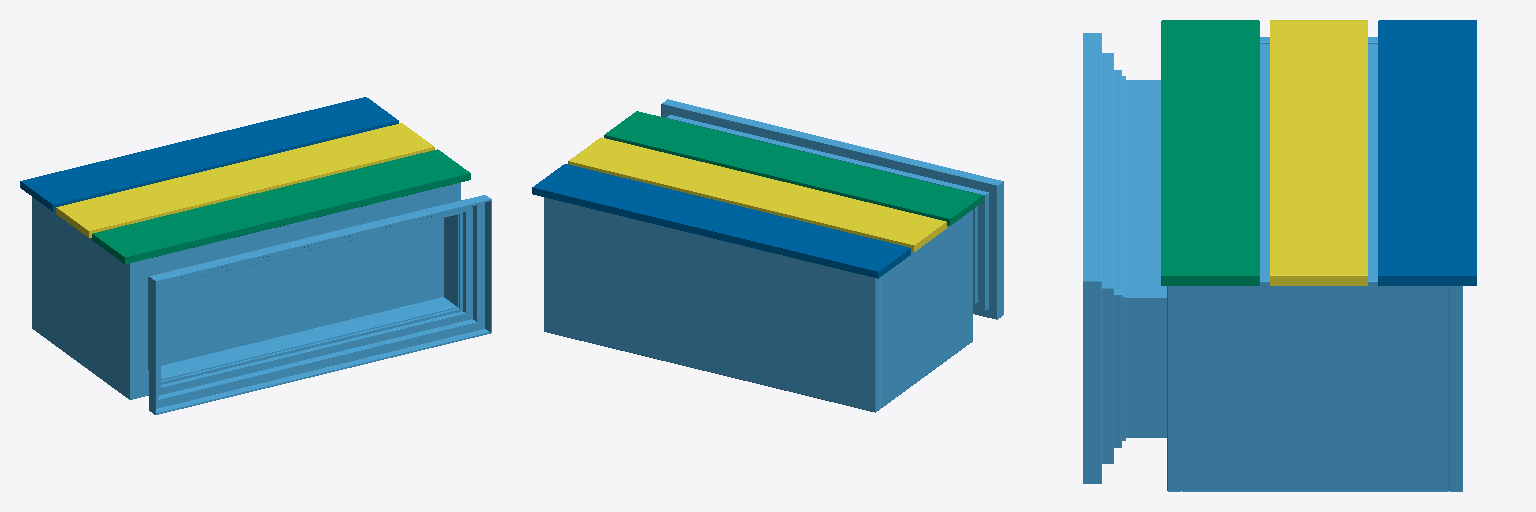
The robot description file, URDF, robot "480":
<robot name="480">


	<link name="0:virtual">
		<visual>
			<origin xyz="0.0 0.0 0.0" rpy="0 0 0"/>
			<geometry>
				<cylinder length="0" radius="0"/>
			</geometry>
		</visual>
	</link>


	<link name="1:static">
		<visual>
			<origin xyz="-0.0 -0.0 -0.0" rpy="0 0 0"/>
			<geometry>
				<mesh filename="../raw_data/480/part_meshes/1.dae" />
			</geometry>
		</visual>
	</link>


	<link name="2:drawer 1">
		<visual>
			<origin xyz="-0.0 -0.2714195027947426 -0.015427500009536743" rpy="0 0 0"/>
			<geometry>
				<mesh filename="../raw_data/480/part_meshes/2.dae" />
			</geometry>
		</visual>
	</link>


	<link name="3:drawer 2">
		<visual>
			<origin xyz="-0.0 -0.5026500076055527 -0.015427500009536743" rpy="0 0 0"/>
			<geometry>
				<mesh filename="../raw_data/480/part_meshes/3.dae" />
			</geometry>
		</visual>
	</link>


	<link name="4:drawer 3">
		<visual>
			<origin xyz="-0.0 -0.7338805198669434 -0.015427500009536743" rpy="0 0 0"/>
			<geometry>
				<mesh filename="../raw_data/480/part_meshes/4.dae" />
			</geometry>
		</visual>
	</link>


	<joint name="0:virtual::1:static" type="fixed">
		<parent link="0:virtual"/>
		<child link="1:static"/>
		<origin xyz="0.0 0.0 0.0" rpy="0 0 0"/>
	</joint>


	<joint name="0:virtual::2:drawer 1_translation" type="prismatic">
		<parent link="0:virtual"/>
		<child link="2:drawer 1"/>
		<origin xyz="0.0 0.2714195027947426 0.015427500009536743" rpy="0 0 0"/>
		<limit lower="0.0" upper="0.440431501686573" effort="10" velocity="3"/>
		<axis xyz="0.0 0.0 1.0"/>
	</joint>


	<joint name="0:virtual::3:drawer 2_translation" type="prismatic">
		<parent link="0:virtual"/>
		<child link="3:drawer 2"/>
		<origin xyz="0.0 0.5026500076055527 0.015427500009536743" rpy="0 0 0"/>
		<limit lower="0.0" upper="0.440431501686573" effort="10" velocity="3"/>
		<axis xyz="0.0 0.0 1.0"/>
	</joint>


	<joint name="0:virtual::4:drawer 3_translation" type="prismatic">
		<parent link="0:virtual"/>
		<child link="4:drawer 3"/>
		<origin xyz="0.0 0.7338805198669434 0.015427500009536743" rpy="0 0 0"/>
		<limit lower="0.0" upper="0.440431501686573" effort="10" velocity="3"/>
		<axis xyz="0.0 0.0 1.0"/>
	</joint>


</robot>

--- Facts derived from the render (not from the file) ---
Views: 3 orthographic renders of the robot side by side, from view 1: azimuth 30°, elevation 25°; view 2: azimuth 150°, elevation 25°; view 3: azimuth 270°, elevation 25°.
Robot: 480 — 5 links, 4 joints (3 prismatic, 1 fixed); root link 0:virtual; default pose: every joint at zero.
Visible links, largest first — view 1: 1:static, 2:drawer 1, 3:drawer 2, 4:drawer 3; view 2: 1:static, 4:drawer 3, 2:drawer 1, 3:drawer 2; view 3: 1:static, 4:drawer 3, 2:drawer 1, 3:drawer 2.
Boxes of the visible links, x1=… form: 1:static: x1=32, y1=183, x2=491, y2=414; 2:drawer 1: x1=92, y1=149, x2=470, y2=263; 3:drawer 2: x1=56, y1=123, x2=434, y2=237; 4:drawer 3: x1=20, y1=97, x2=398, y2=211; 1:static: x1=544, y1=99, x2=1003, y2=412; 4:drawer 3: x1=532, y1=164, x2=910, y2=278; 2:drawer 1: x1=604, y1=111, x2=982, y2=225; 3:drawer 2: x1=568, y1=137, x2=946, y2=251; 1:static: x1=1083, y1=33, x2=1462, y2=491; 4:drawer 3: x1=1378, y1=20, x2=1476, y2=285; 2:drawer 1: x1=1161, y1=20, x2=1259, y2=285; 3:drawer 2: x1=1270, y1=20, x2=1367, y2=285.
Bounding box of the posed robot: 1.29 × 0.839 × 0.52 m (x, y, z).
4 mesh visuals loaded from 4 distinct referenced files (4 Collada DAE).